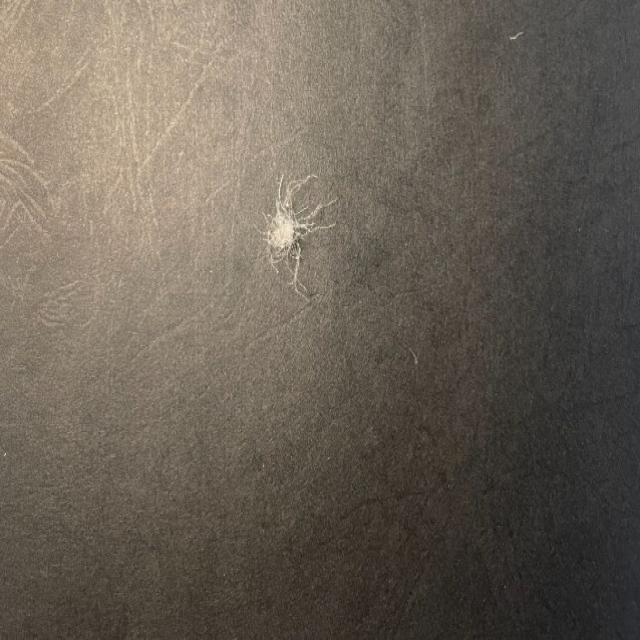feather: (255, 160, 337, 302)
